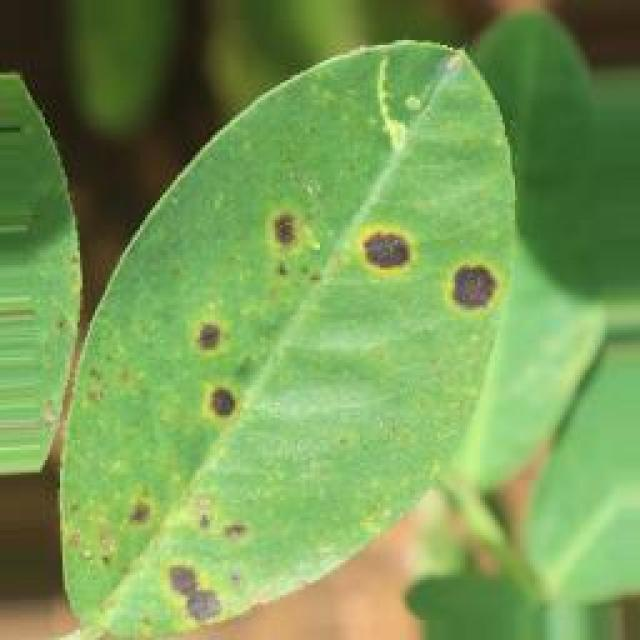Sigatoka: (168, 290, 252, 448), (96, 480, 255, 555), (131, 543, 233, 629), (418, 229, 510, 324), (338, 204, 432, 291), (257, 184, 330, 290)
